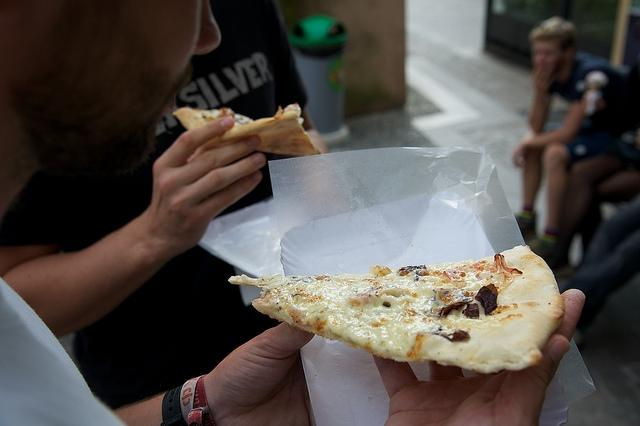mushroom: (475, 284, 499, 316), (426, 328, 470, 342), (440, 301, 468, 318), (462, 302, 479, 319)
